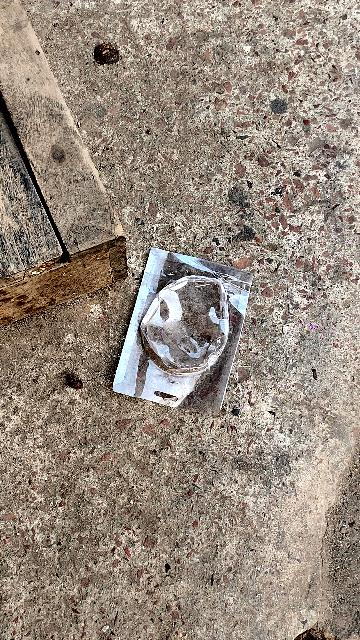packet: (117, 246, 257, 425)
